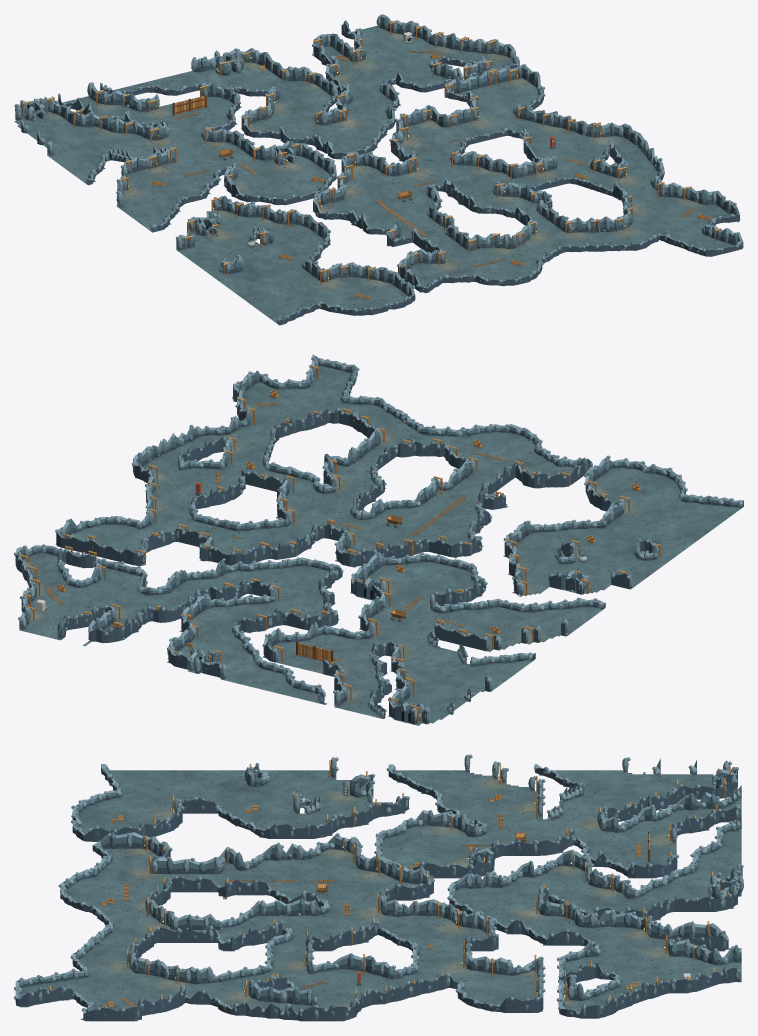
File: terrain-props.glb
The picture shows the model from 3 angles, top to bottom: view 1: azimuth 30°, elevation 25°; view 2: azimuth 150°, elevation 25°; view 3: azimuth 270°, elevation 25°; orthographic projection. The views are drawn at different scales.
Visible parts, largest first — view 1: hm09-opaque-chunk-2-2, hm09-opaque-chunk-0-3, hm09-opaque-chunk-1-1, hm09-opaque-chunk-4-0, hm09-opaque-chunk-0-0, hm09-opaque-chunk-2-4, hm09-opaque-chunk-3-1, hm09-opaque-chunk-0-4, hm09-opaque-chunk-2-0, hm09-opaque-chunk-1-0, hm09-opaque-chunk-3-2, hm09-opaque-chunk-3-3 (+21 smaller); view 2: hm09-opaque-chunk-0-4, hm09-opaque-chunk-3-1, hm09-opaque-chunk-2-0, hm09-opaque-chunk-1-1, hm09-opaque-chunk-0-3, hm09-opaque-chunk-2-3, hm09-opaque-chunk-4-0, hm09-opaque-chunk-1-0, hm09-opaque-chunk-0-0, hm09-opaque-chunk-3-3, hm09-opaque-chunk-2-2, hm09-opaque-chunk-0-2 (+21 smaller); view 3: hm09-opaque-chunk-4-0, hm09-opaque-chunk-0-3, hm09-opaque-chunk-2-1, hm09-opaque-chunk-1-0, hm09-opaque-chunk-3-2, hm09-opaque-chunk-2-2, hm09-opaque-chunk-0-4, hm09-opaque-chunk-1-1, hm09-opaque-chunk-2-3, hm09-opaque-chunk-3-3, hm09-opaque-chunk-2-4, hm09-opaque-chunk-0-0 (+22 smaller).
Boxes of the visible parts, box(x1,y1,x2,y2) form: hm09-opaque-chunk-2-2: box(274, 140, 411, 204); hm09-opaque-chunk-0-3: box(175, 221, 302, 285); hm09-opaque-chunk-1-1: box(135, 121, 273, 182); hm09-opaque-chunk-4-0: box(330, 14, 456, 80); hm09-opaque-chunk-0-0: box(14, 93, 134, 160); hm09-opaque-chunk-2-4: box(387, 225, 525, 283); hm09-opaque-chunk-3-1: box(298, 79, 435, 142); hm09-opaque-chunk-0-4: box(226, 259, 362, 325); hm09-opaque-chunk-2-0: box(159, 48, 296, 120); hm09-opaque-chunk-1-0: box(80, 79, 215, 140); hm09-opaque-chunk-3-2: box(355, 118, 483, 184); hm09-opaque-chunk-3-3: box(412, 154, 548, 217); hm09-opaque-chunk-0-4: box(597, 482, 743, 549); hm09-opaque-chunk-3-1: box(145, 543, 294, 621); hm09-opaque-chunk-2-0: box(172, 614, 320, 688); hm09-opaque-chunk-1-1: box(322, 588, 471, 664); hm09-opaque-chunk-0-3: box(535, 528, 684, 590); hm09-opaque-chunk-2-3: box(358, 476, 508, 545); hm09-opaque-chunk-4-0: box(18, 576, 144, 640); hm09-opaque-chunk-1-0: box(259, 641, 409, 710); hm09-opaque-chunk-0-0: box(348, 660, 497, 725); hm09-opaque-chunk-3-3: box(276, 454, 388, 530); hm09-opaque-chunk-2-2: box(296, 527, 446, 595); hm09-opaque-chunk-0-2: box(472, 570, 605, 638); hm09-opaque-chunk-4-0: box(610, 933, 741, 994); hm09-opaque-chunk-0-3: box(223, 757, 353, 814); hm09-opaque-chunk-2-1: box(478, 847, 616, 904); hm09-opaque-chunk-1-0: box(612, 802, 741, 862); hm09-opaque-chunk-3-2: box(350, 891, 485, 949); hm09-opaque-chunk-2-2: box(352, 843, 483, 904); hm09-opaque-chunk-0-4: box(93, 763, 222, 814); hm09-opaque-chunk-1-1: box(480, 799, 613, 859); hm09-opaque-chunk-2-3: box(218, 842, 352, 904); hm09-opaque-chunk-3-3: box(221, 890, 353, 949); hm09-opaque-chunk-2-4: box(92, 847, 226, 904); hm09-opaque-chunk-0-0: box(612, 757, 741, 814).
Size of the model in its own units: 64.01 by 2.33 by 78.18.
Materials: 2 (1 with a texture image).
